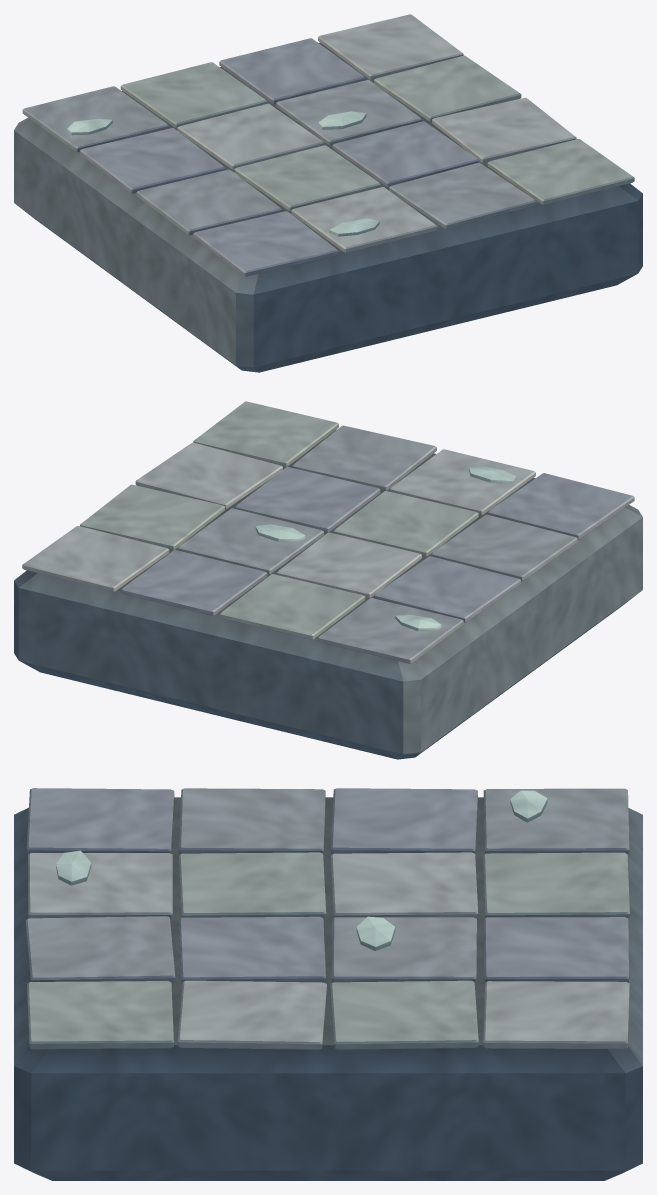
File: dusk_floor_mist.glb
3 views of the same model, one above another, from view 1: azimuth 30°, elevation 25°; view 2: azimuth 150°, elevation 25°; view 3: azimuth 270°, elevation 25° (orthographic). The views are drawn at different scales.
Parts seen in each view (by area): view 1: Dämmergänge · mist; view 2: Dämmergänge · mist; view 3: Dämmergänge · mist.
Part boxes in pixels (x1,y1,x2,y2): Dämmergänge · mist: [14, 14, 642, 372]; Dämmergänge · mist: [14, 401, 642, 759]; Dämmergänge · mist: [14, 788, 642, 1180].
Size of the model in its own units: 2.4 by 0.626 by 2.4.
Materials: 1 (1 with a texture image).
